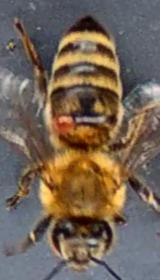varroa_mite: (46, 101, 80, 140)
